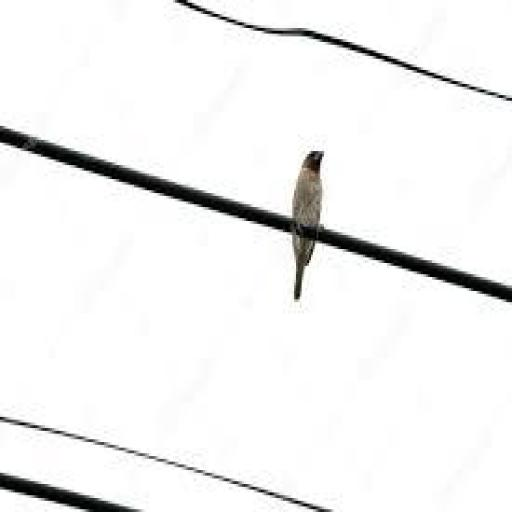birds: (290, 134, 333, 298)
